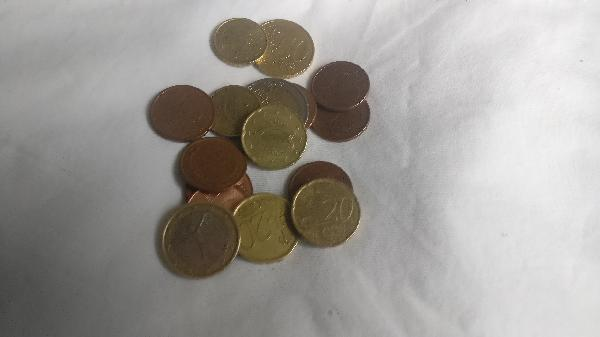Fifty Cent: (255, 18, 314, 78)
Five Cent: (147, 84, 217, 141), (306, 98, 373, 147), (187, 139, 244, 194), (314, 60, 372, 114), (286, 158, 357, 199)
One Euro: (161, 203, 246, 281)
Ten Cent: (211, 82, 264, 137), (211, 19, 268, 64)
Twenty Cent: (232, 194, 299, 266), (292, 182, 364, 245), (240, 106, 313, 165)
